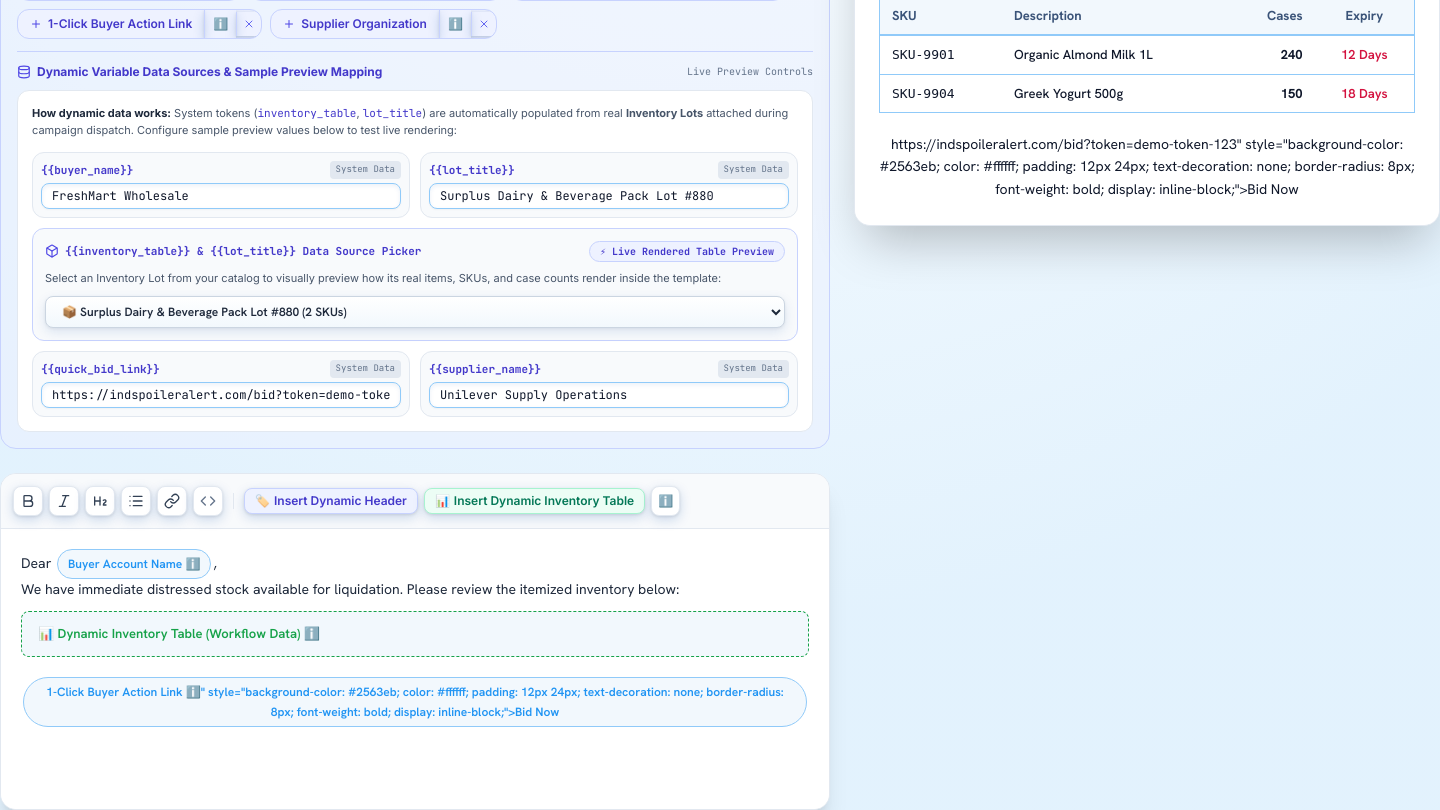
Scenario: Body Section Editor Typing & Raw HTML Code Mode › allows switching to Raw HTML Code Editor mode and editing raw bodyHtml in textarea
(page scrolled)
Click the button with test id "toggle-code-editor": (208, 501) 193,486 -> 223,516
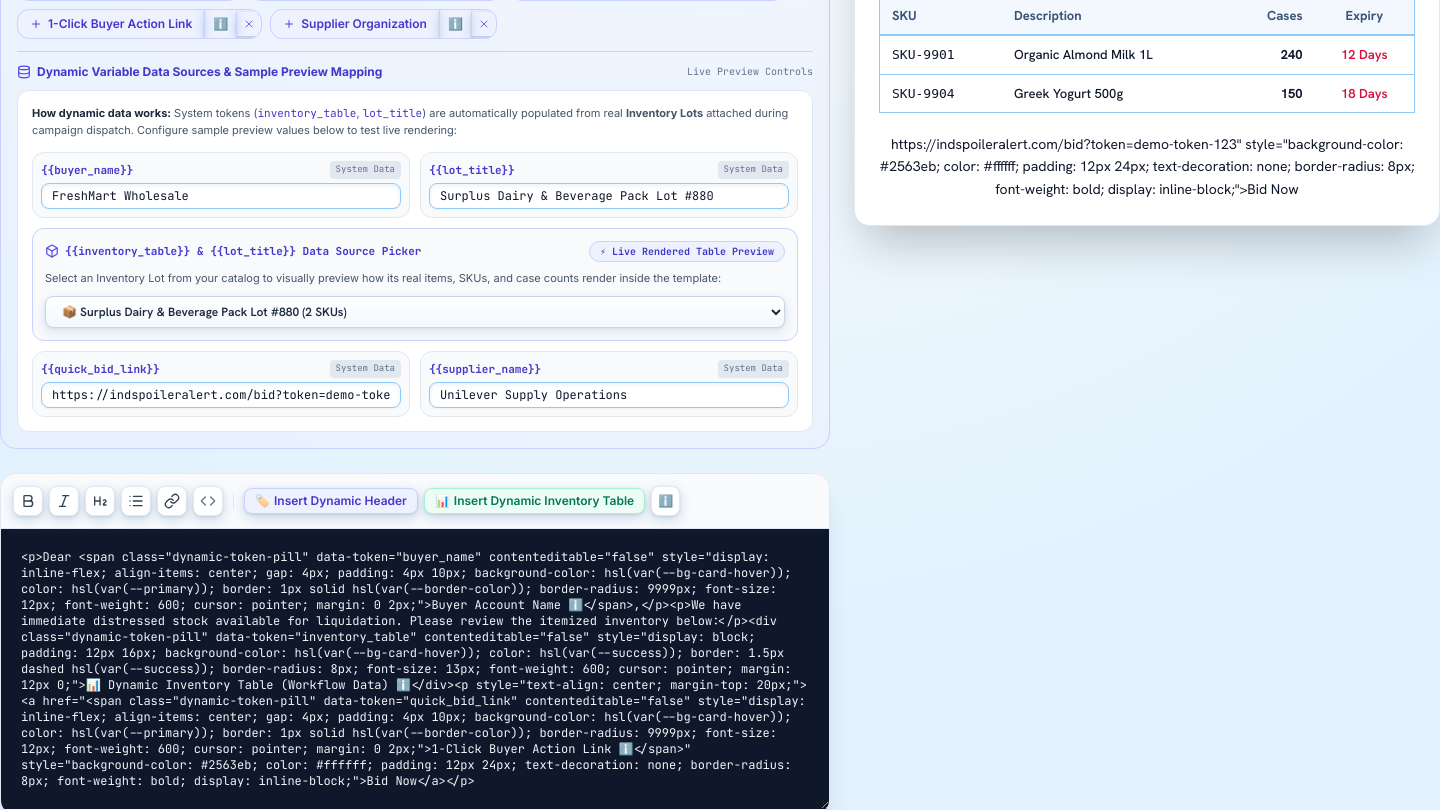
Expected: the text box with test id "raw-html-editor-textarea" is shown
Replace the text in the text box with test id "raw-html-editor-textarea" with "<h2>Custom Typed HTML Body</h2>": (415, 669) 1,529 -> 829,809
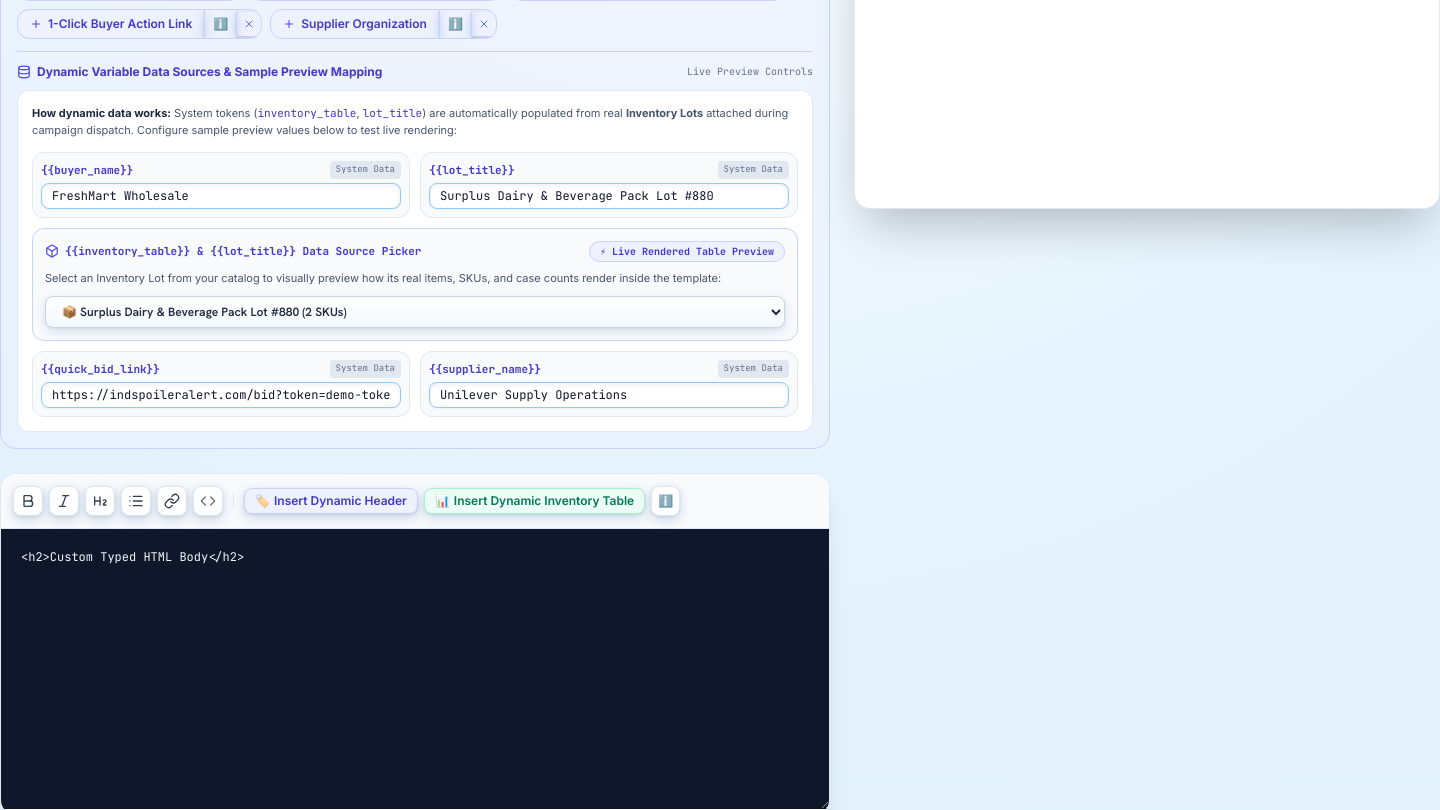
Click the button with test id "toggle-visual-editor": (208, 501) 193,486 -> 223,516
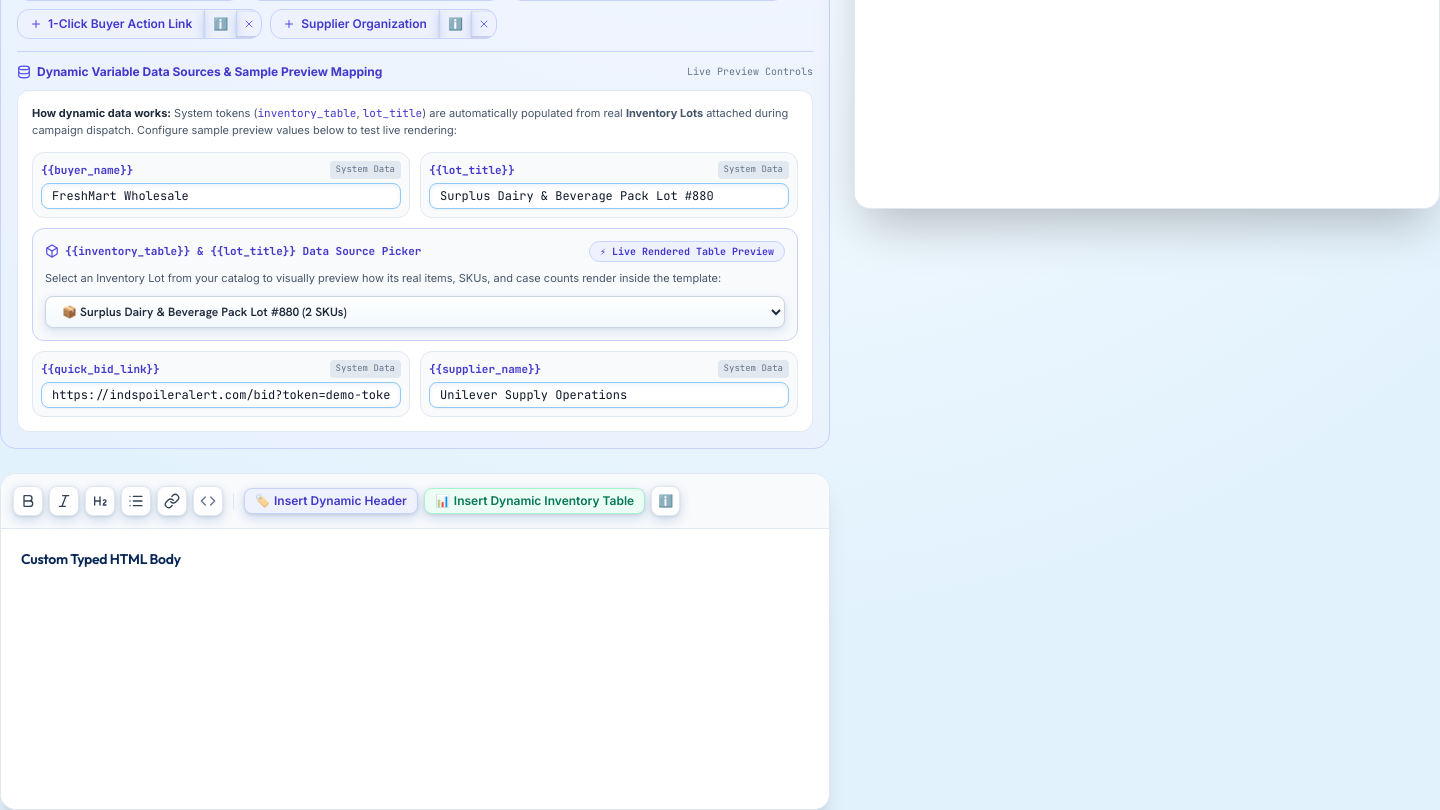
Expected: the text box with test id "tiptap-editable-content" reads "Custom Typed HTML Body", 1,529 -> 829,809
